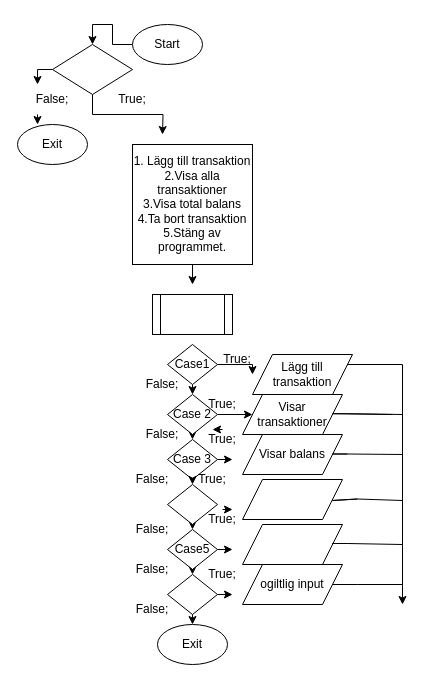
This 428x682 diagram has some shape labels left out. Each missing label, with the centre of its shape:
Case4: point (192, 504)
Default: point (192, 594)
Läser user input: point (192, 314)
Stänger av: point (292, 544)
Ta bort transaktion: point (292, 499)
While: point (92, 69)
